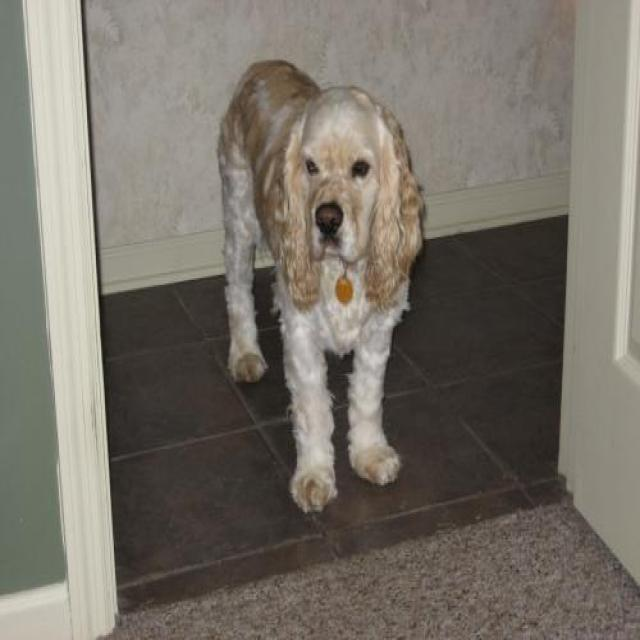Dogs: (215, 56, 426, 514)
